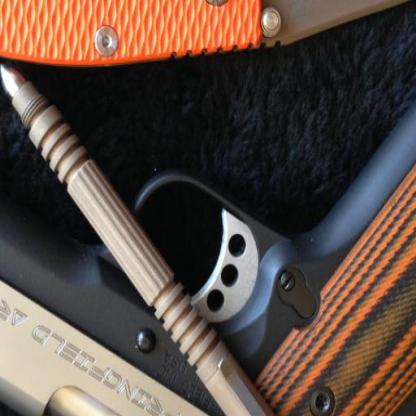knife: (0, 0, 415, 75)
